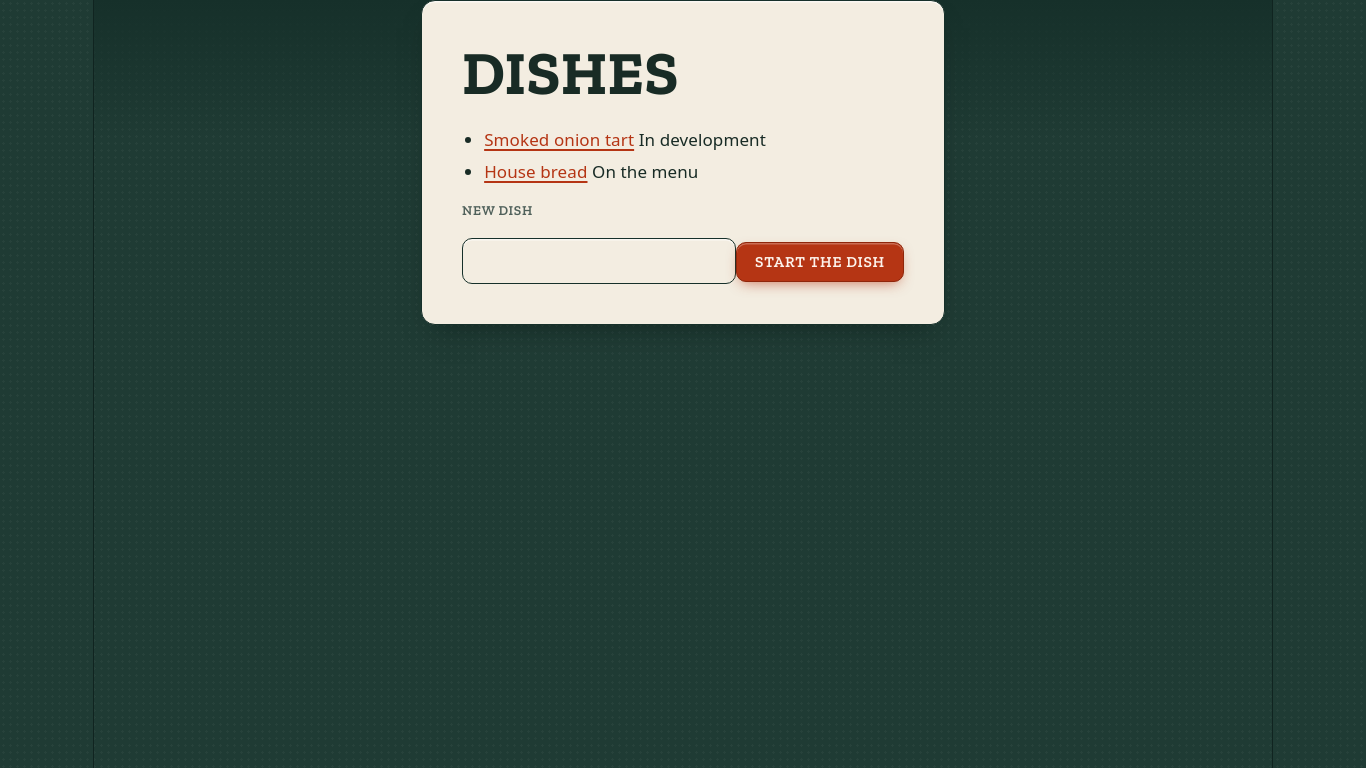
Test: the dish list › shows the database's refusal rather than swallowing it
Type "x" into the field labelled "New dish" at (599, 261), box [462,238,736,284]
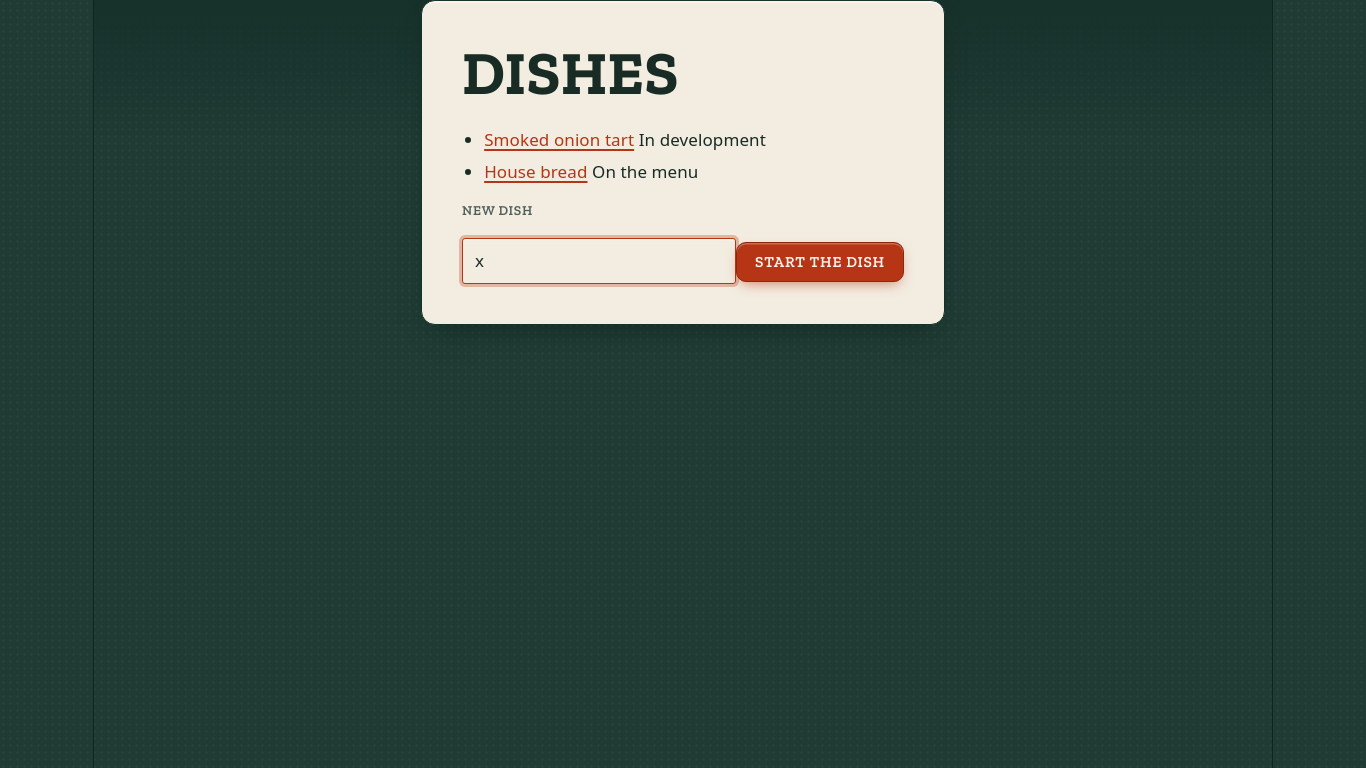
Click the button "Start the dish" at (820, 262), box [736,242,904,282]
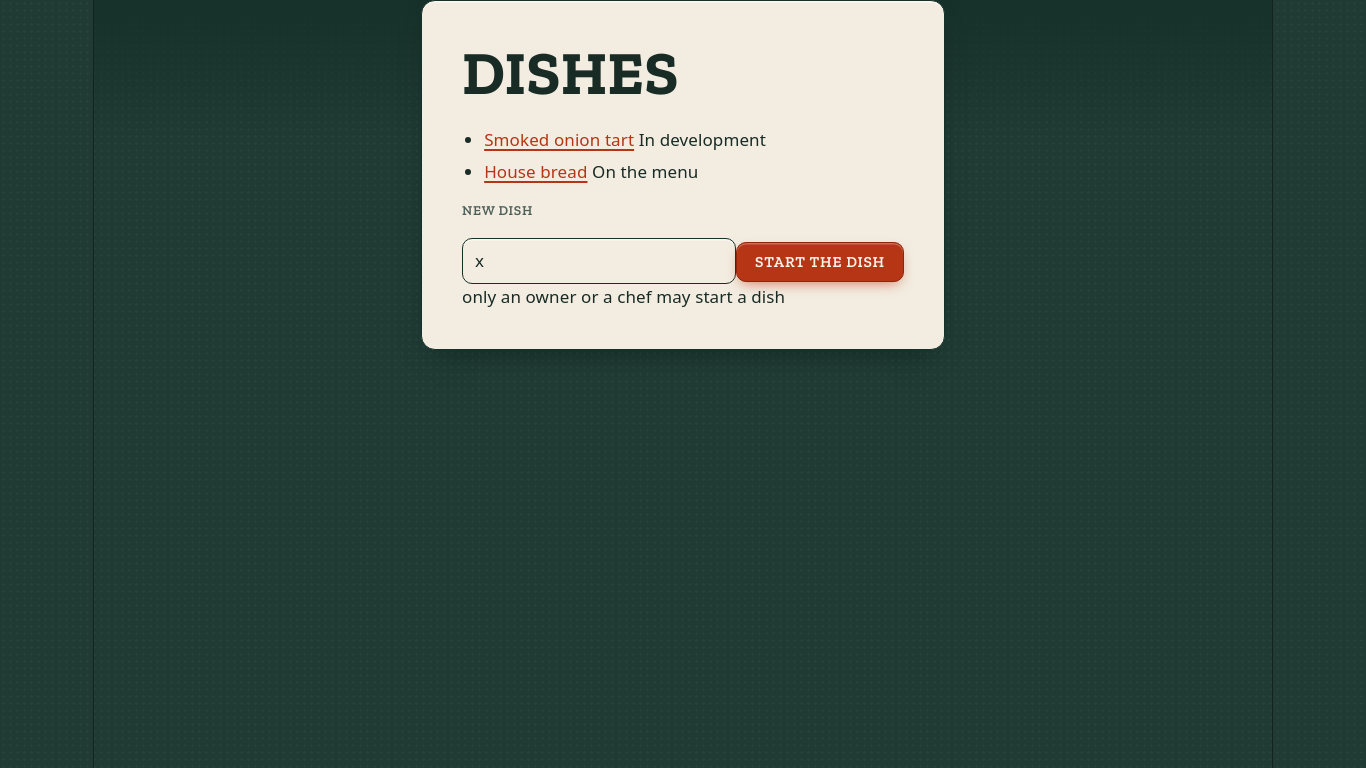
expect the message shows "only an owner or a chef": met, box [462,285,785,308]
